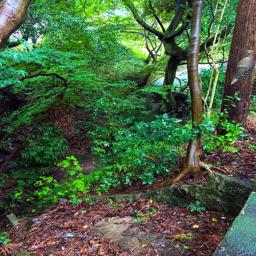Woodpecker: (230, 49, 256, 85)
